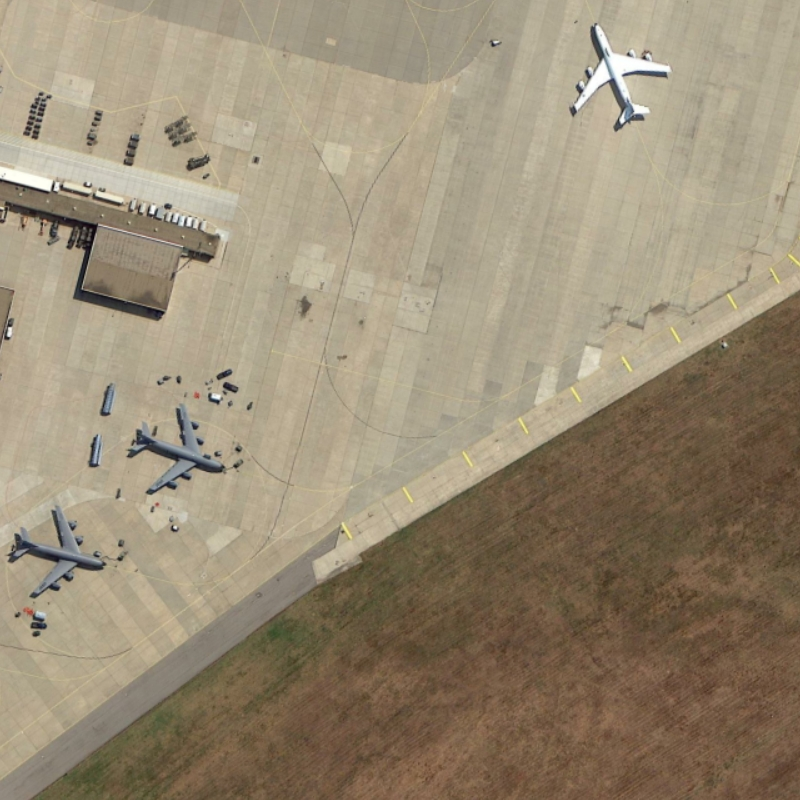A11: (568, 16, 681, 133)
A14: (120, 394, 232, 499), (3, 499, 114, 604)
